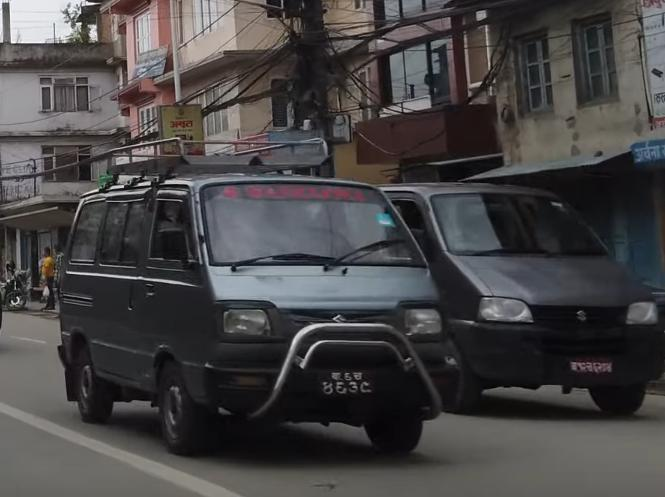van: (38, 119, 464, 456), (357, 155, 665, 418)
